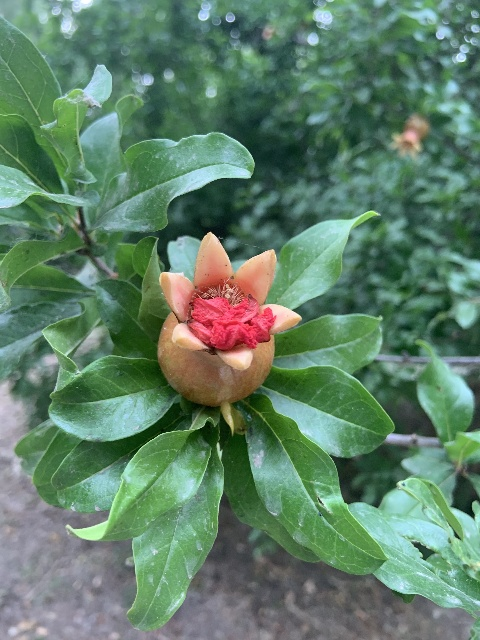early-fruit: (157, 230, 302, 405), (390, 115, 429, 161)
